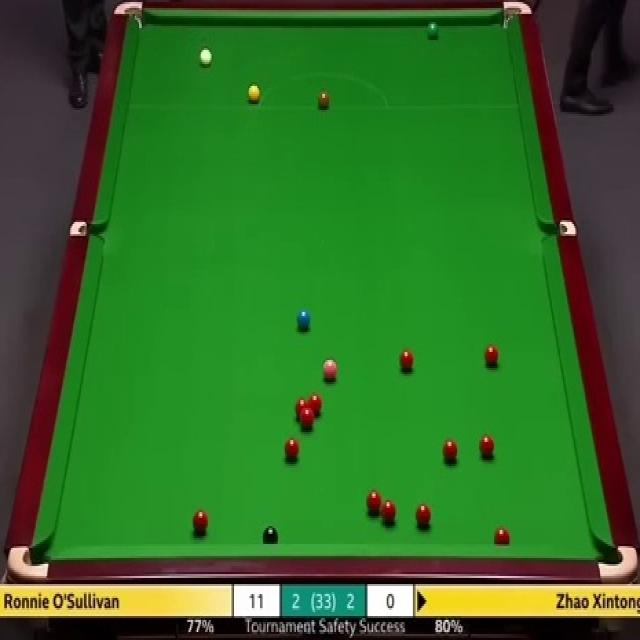black-ball: (262, 525, 280, 546)
blue-ball: (296, 308, 312, 329)
brown-ball: (318, 88, 330, 108)
green-ball: (426, 22, 439, 40)
pink-ball: (322, 359, 339, 384)
red-ball: (442, 438, 460, 464), (381, 497, 397, 526), (191, 508, 208, 535), (398, 346, 415, 373), (415, 504, 432, 530), (281, 439, 301, 461), (366, 490, 382, 516), (479, 434, 496, 458), (484, 344, 498, 369), (294, 398, 308, 422), (309, 393, 322, 418), (493, 526, 511, 543), (300, 411, 316, 430)
white-ball: (199, 51, 214, 65)
yellow-ball: (247, 86, 259, 102)
